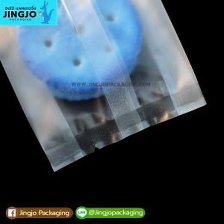snack: (0, 0, 212, 177)
